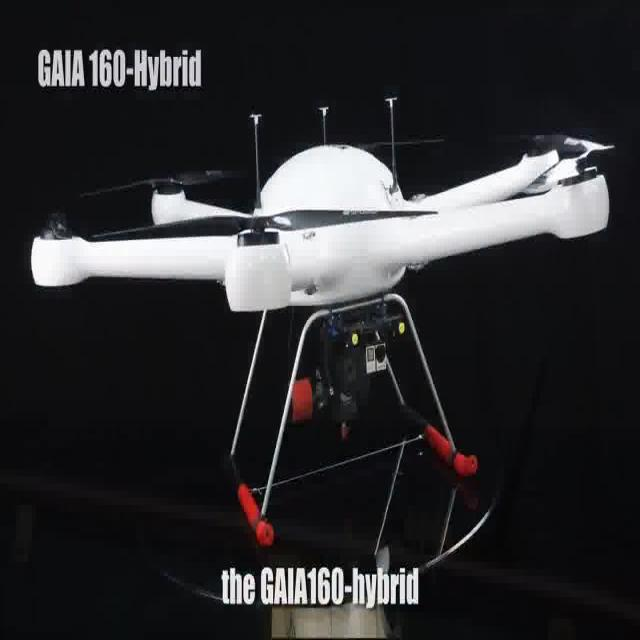Drone_FW: (30, 92, 616, 578)
